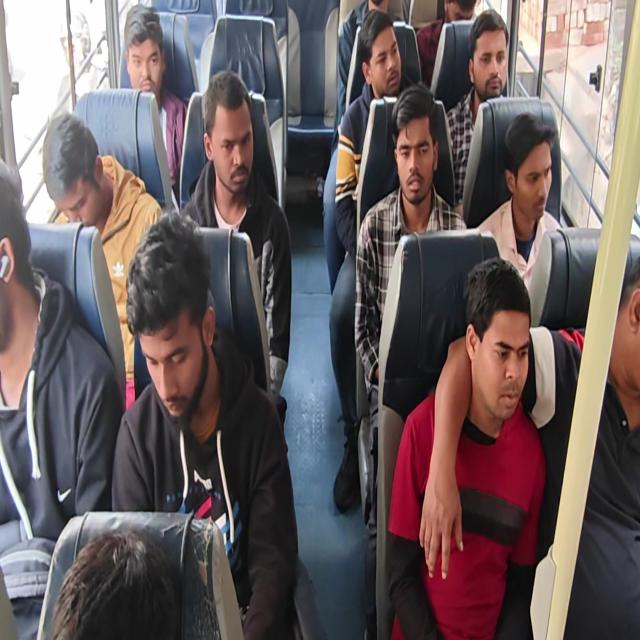person: (122, 216, 226, 434), (47, 524, 194, 633), (462, 254, 527, 426), (29, 100, 109, 228), (0, 150, 38, 368), (384, 85, 449, 212), (200, 66, 260, 202), (493, 102, 560, 218), (121, 0, 172, 107), (464, 15, 522, 100), (357, 13, 406, 98), (612, 257, 640, 404), (357, 0, 398, 18), (445, 0, 473, 18)
